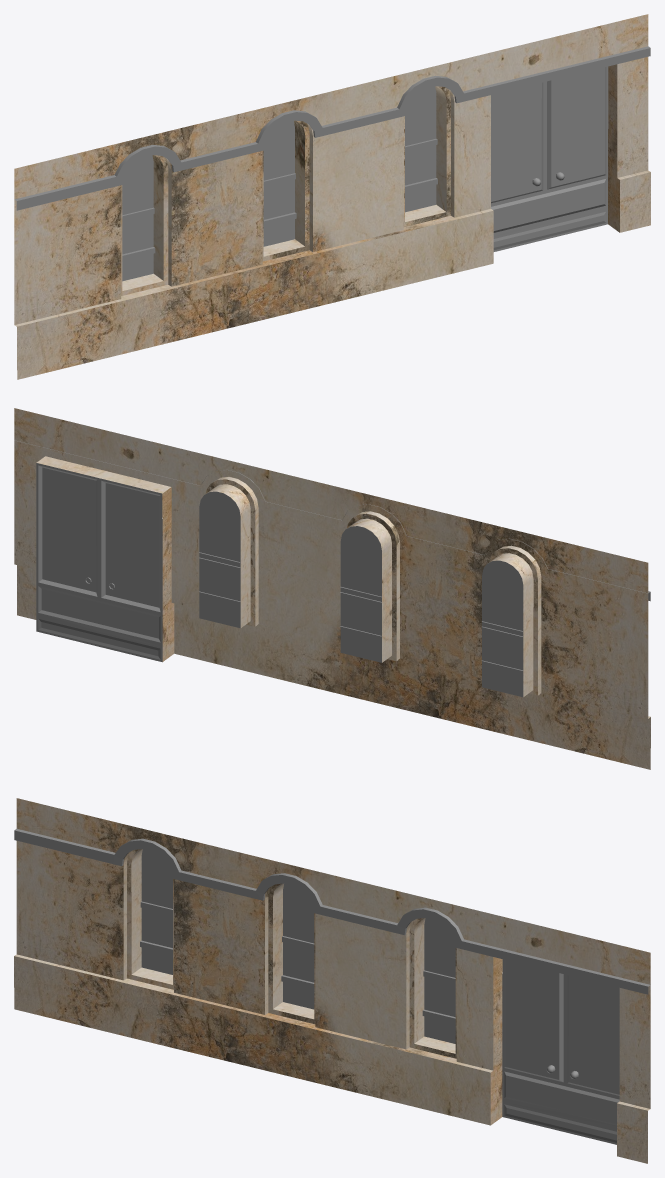
File: Batiment_2_Grande Porte.FBX
The picture shows the model from 3 angles, top to bottom: view 1: azimuth 30°, elevation 25°; view 2: azimuth 150°, elevation 25°; view 3: azimuth 330°, elevation 25°; orthographic projection.
Parts seen in each view (by area): view 1: Object014; view 2: Object014; view 3: Object014.
Boxes of the visible parts, x1,y1,x2,y2 form: Object014: (14,14,650,379); Object014: (14,408,650,769); Object014: (14,798,650,1163).
Size of the model in its own units: 530 by 24.22 by 167.
Materials: 3 (1 with a texture image).
